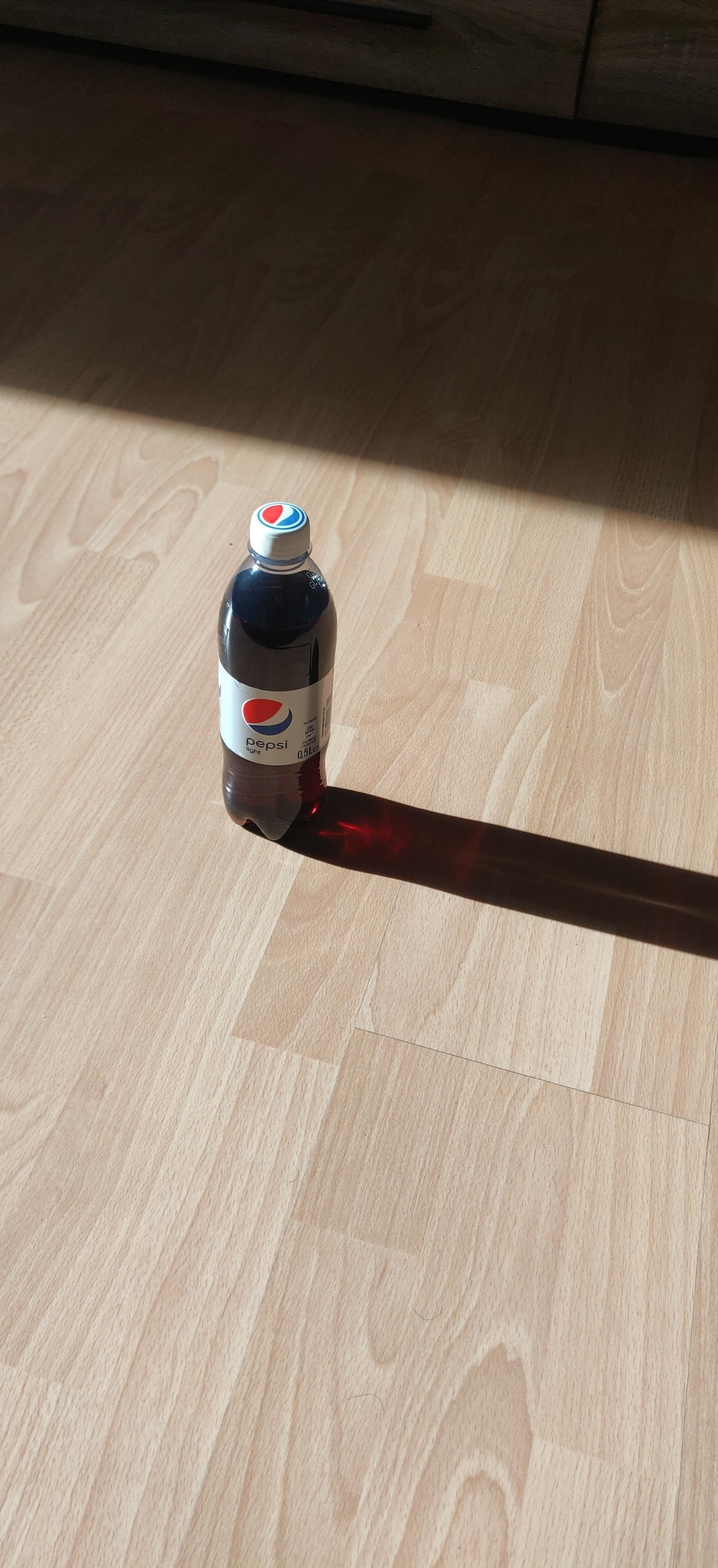bottle-plastic: (215, 500, 343, 841)
